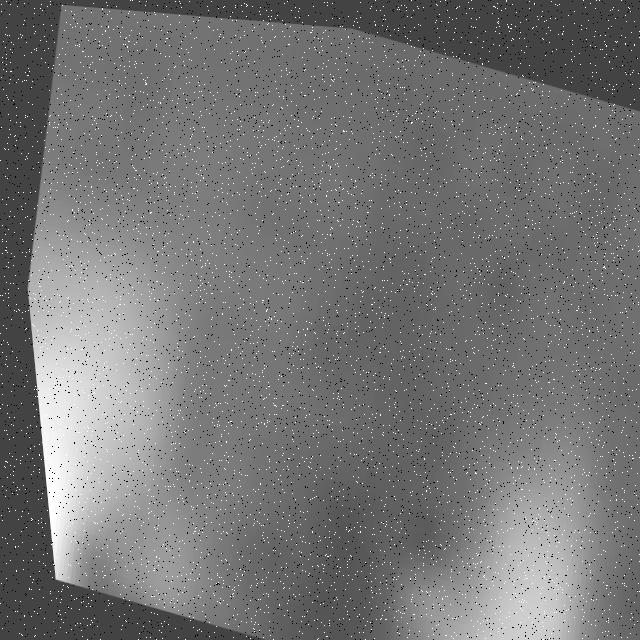person: (11, 139, 207, 605), (344, 333, 640, 640)
